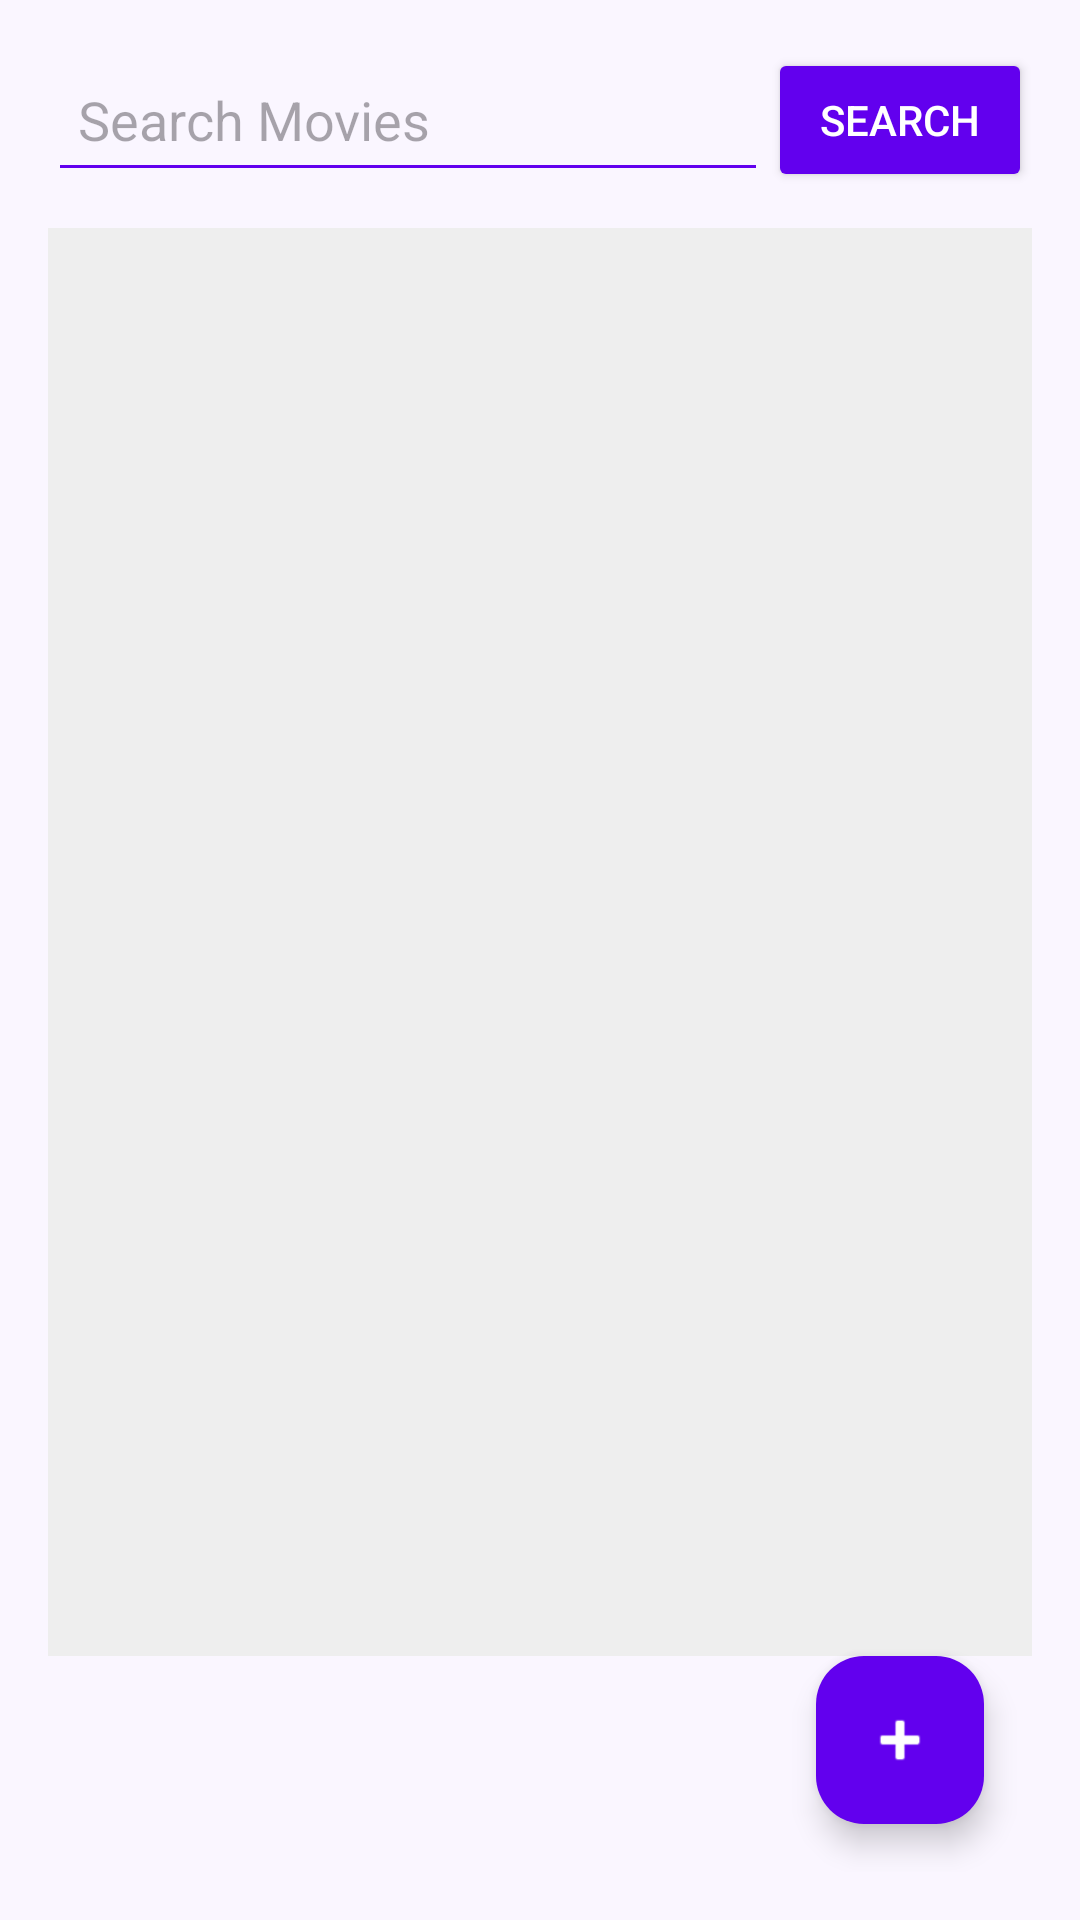

Screen size 1080x1920. Icon name, then its box in pixels as [left=x1, top=y1, right=x2, bottom=y2]:
Add Movie: [left=816, top=1656, right=984, bottom=1824]
